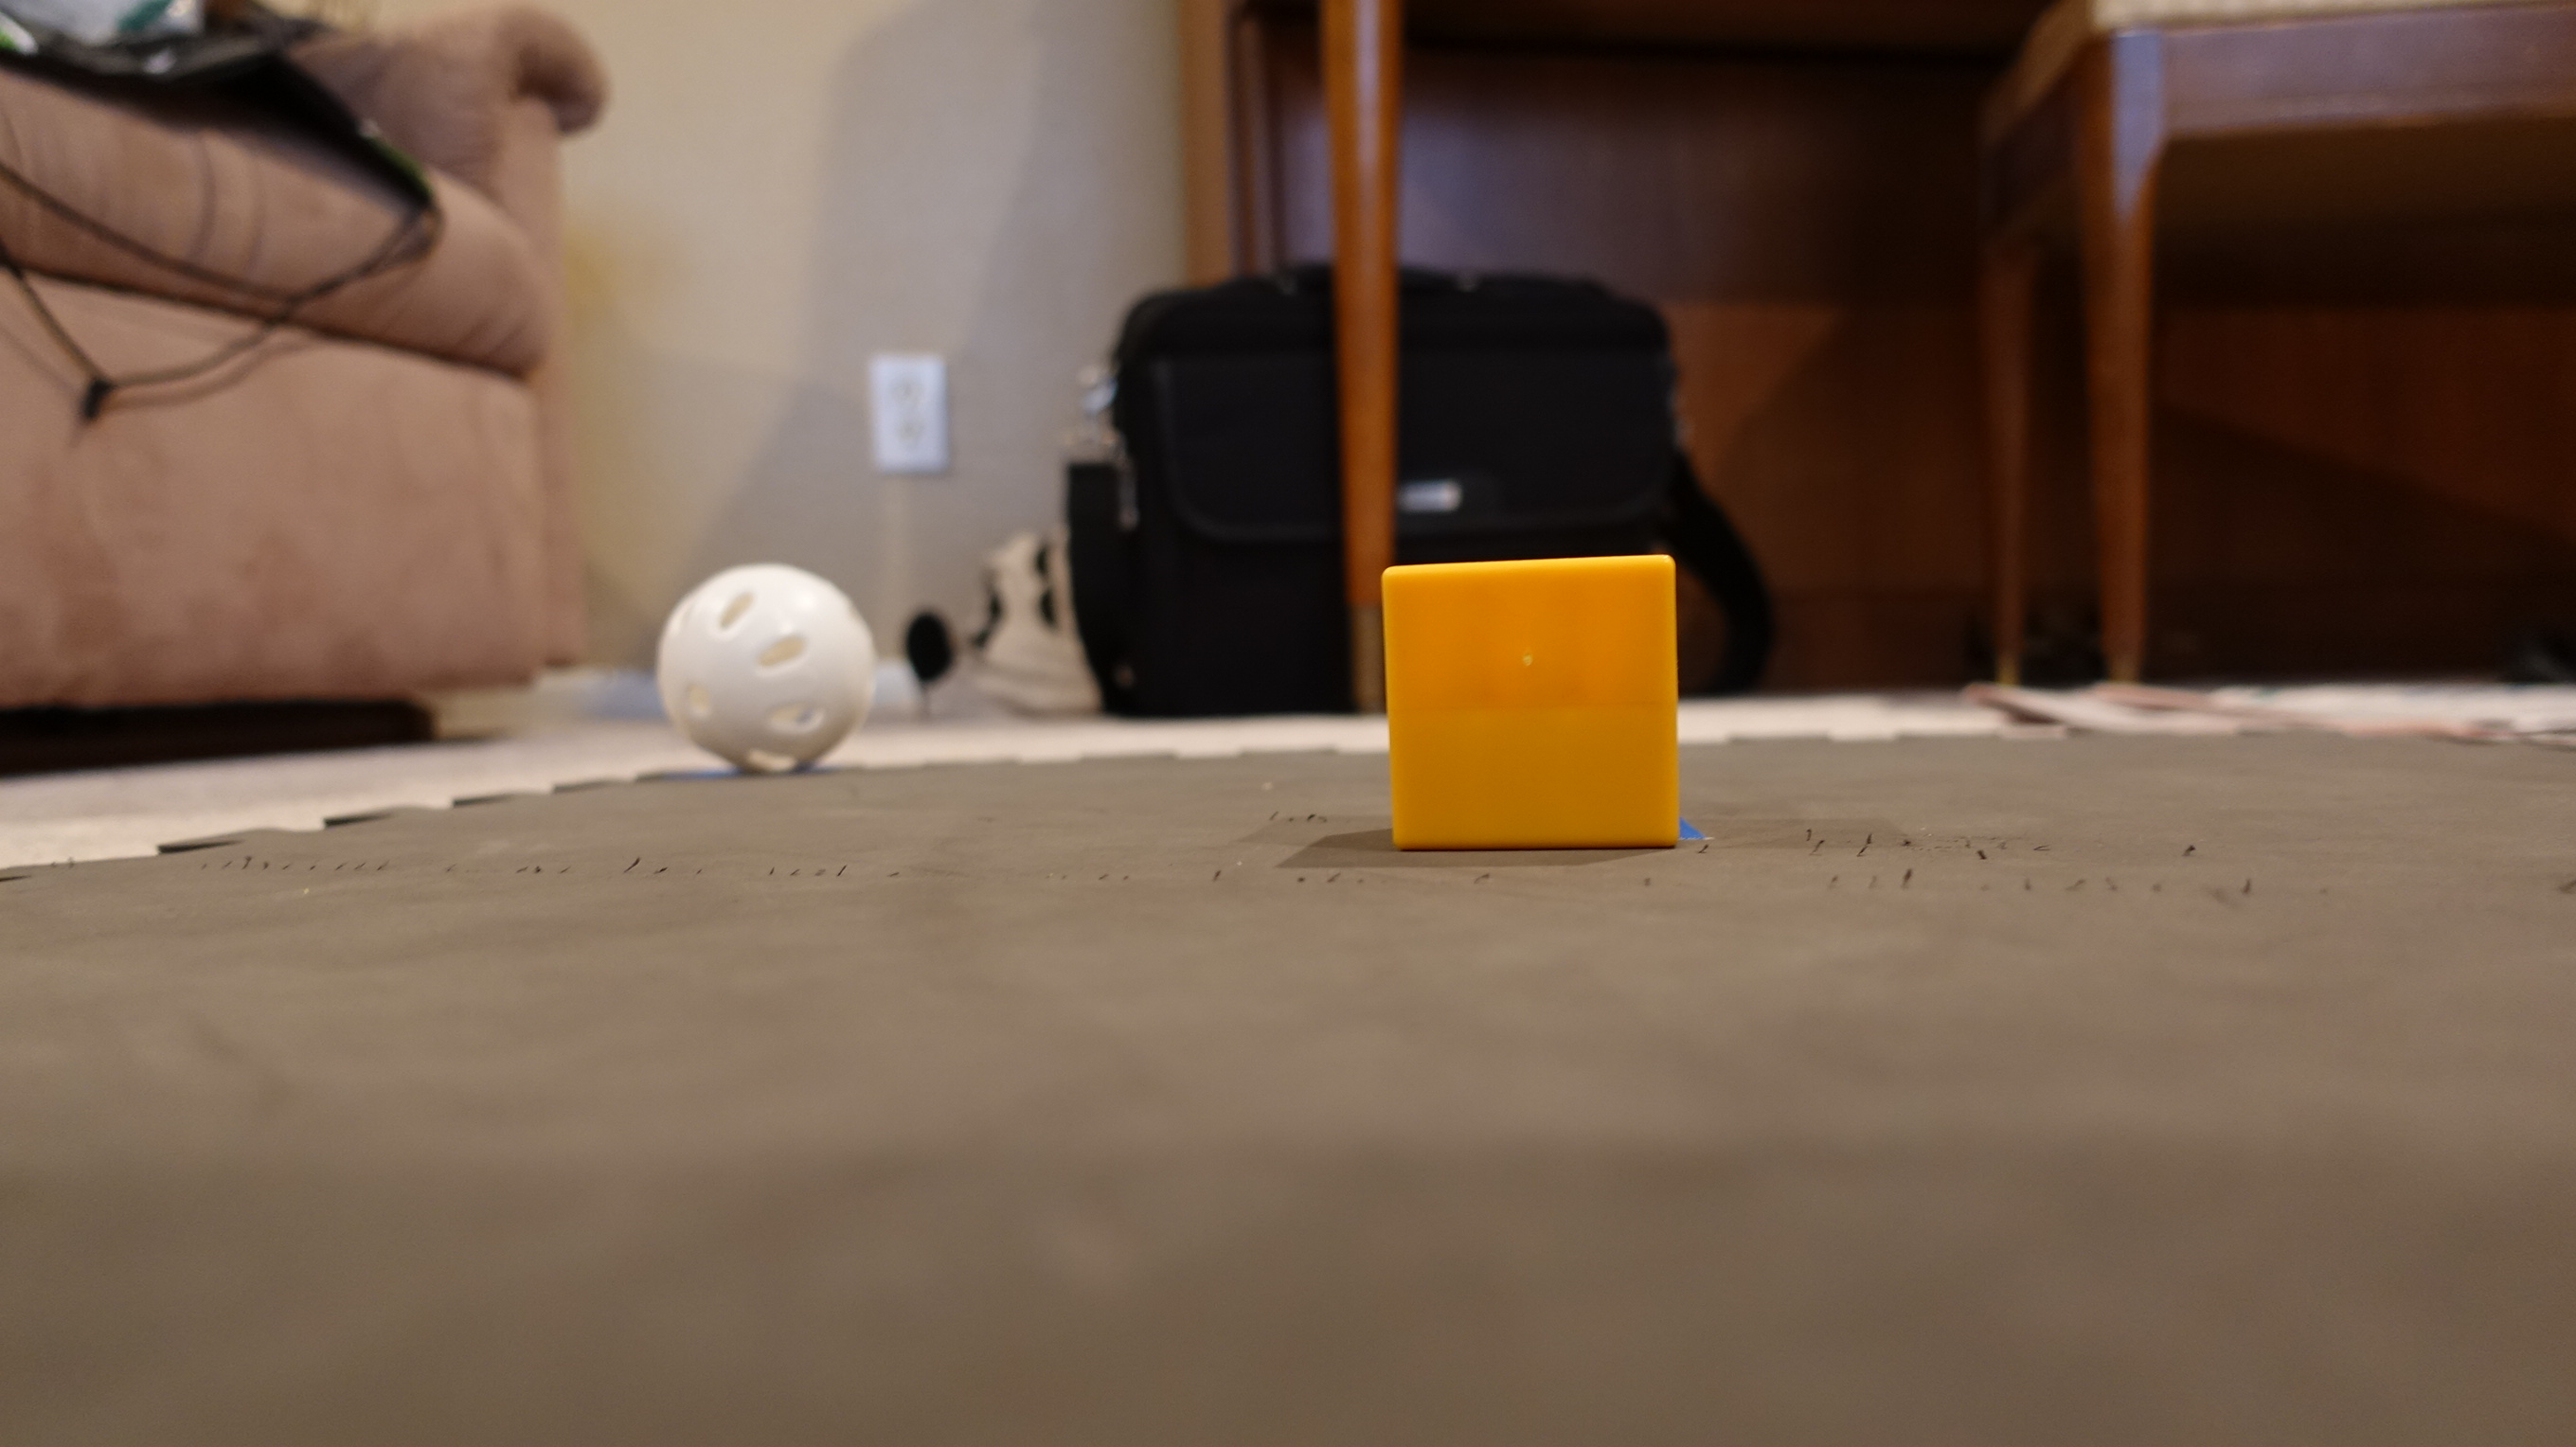gold: (1357, 548, 1700, 861)
silver: (651, 564, 879, 777)
